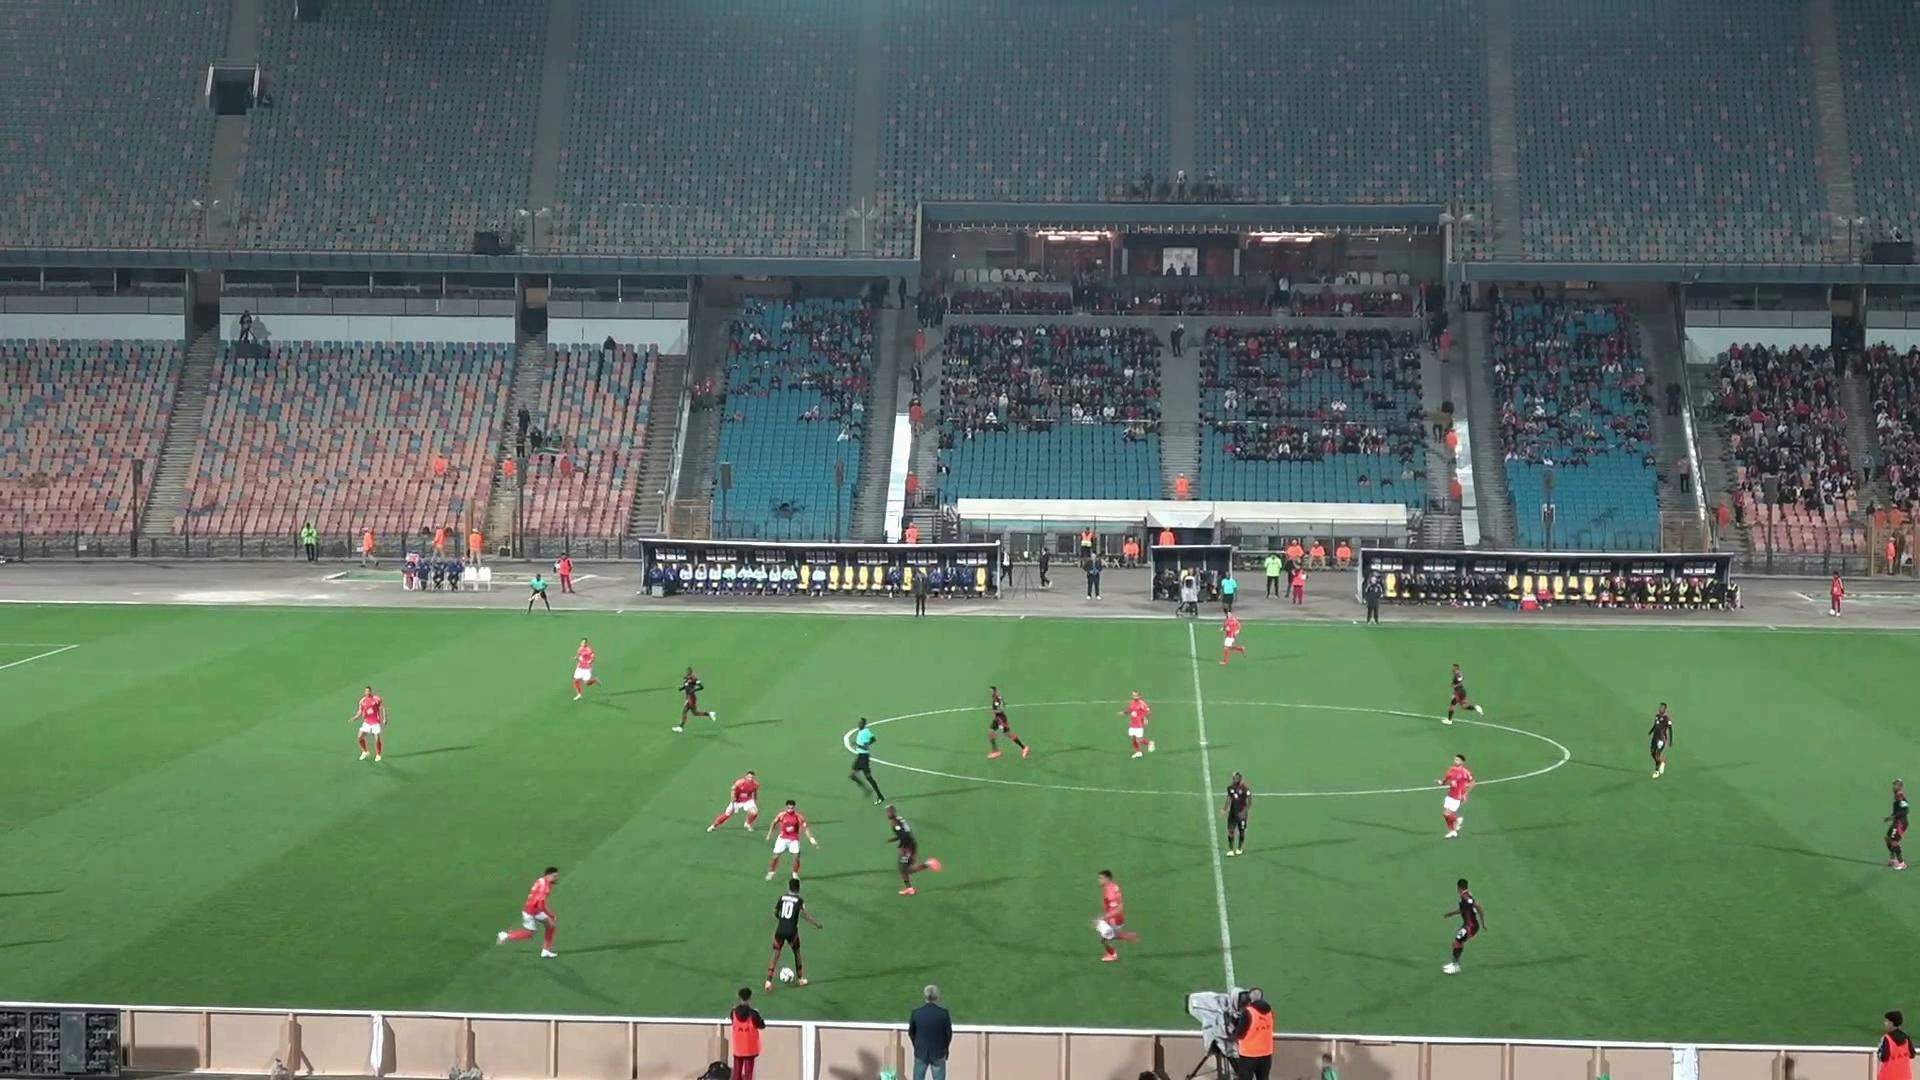Ball: (778, 967, 796, 982)
Refree: (843, 717, 885, 803), (1215, 571, 1240, 615), (527, 574, 551, 612)
Team1: (497, 868, 558, 957), (1093, 869, 1138, 961), (766, 800, 818, 878), (707, 771, 760, 831), (1439, 756, 1476, 837), (351, 686, 382, 761), (1125, 692, 1153, 757), (571, 640, 597, 700), (1218, 608, 1245, 665)
Team2: (886, 804, 942, 895), (764, 878, 807, 992), (1443, 880, 1485, 975), (986, 686, 1029, 758), (673, 669, 716, 731), (1222, 771, 1251, 855), (1443, 665, 1482, 723), (1884, 779, 1909, 870), (1647, 703, 1673, 777)
